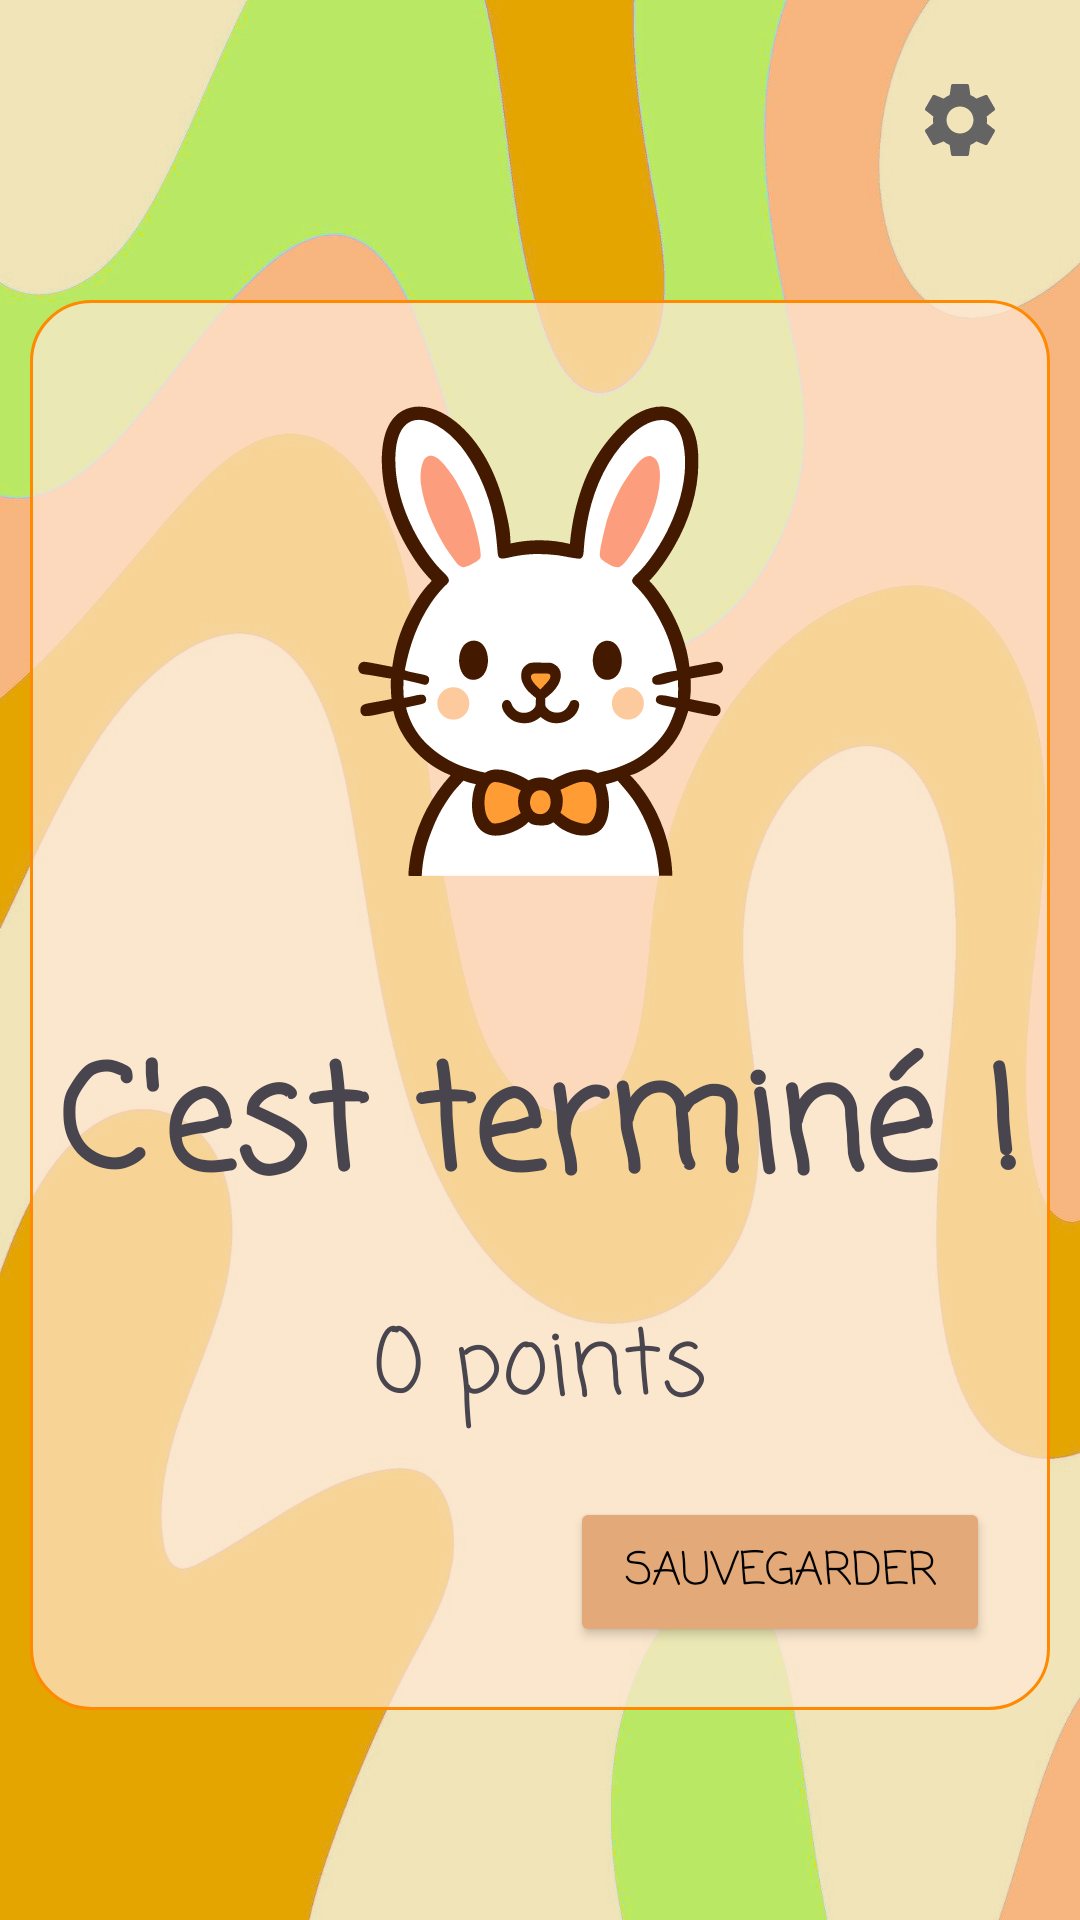

Named icons in this screenshot (1080×1920) and their bounding boxes, rect(x1, y1, x2, y2):
Paramètres: rect(925, 84, 995, 156)
